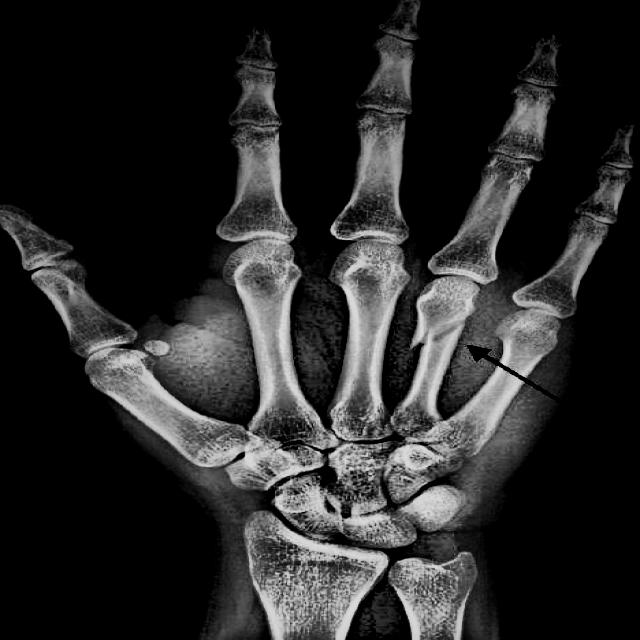fracture: (404, 306, 482, 359)
